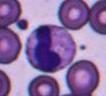N: (25, 23, 77, 72)
